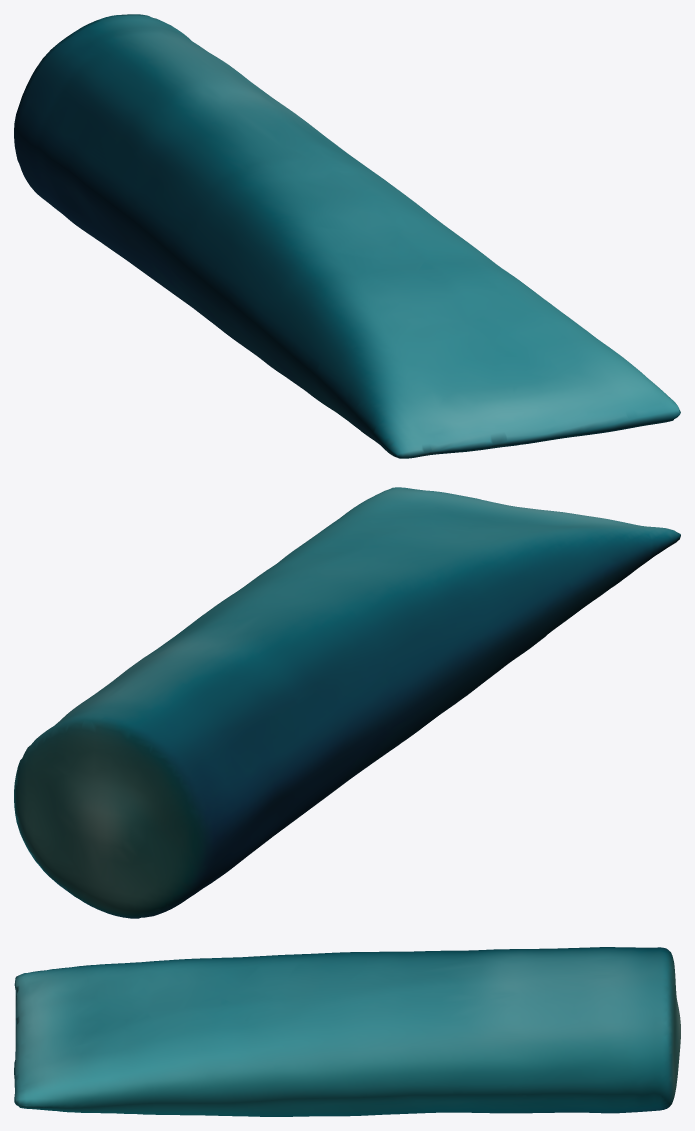
Rendered from oil.glb.
The picture shows the model from 3 angles, top to bottom: view 1: azimuth 30°, elevation 25°; view 2: azimuth 150°, elevation 25°; view 3: azimuth 270°, elevation 25°; orthographic projection. The views are drawn at different scales.
Bounding box in the file's own units: 0.3835 × 0.2459 × 0.999.
